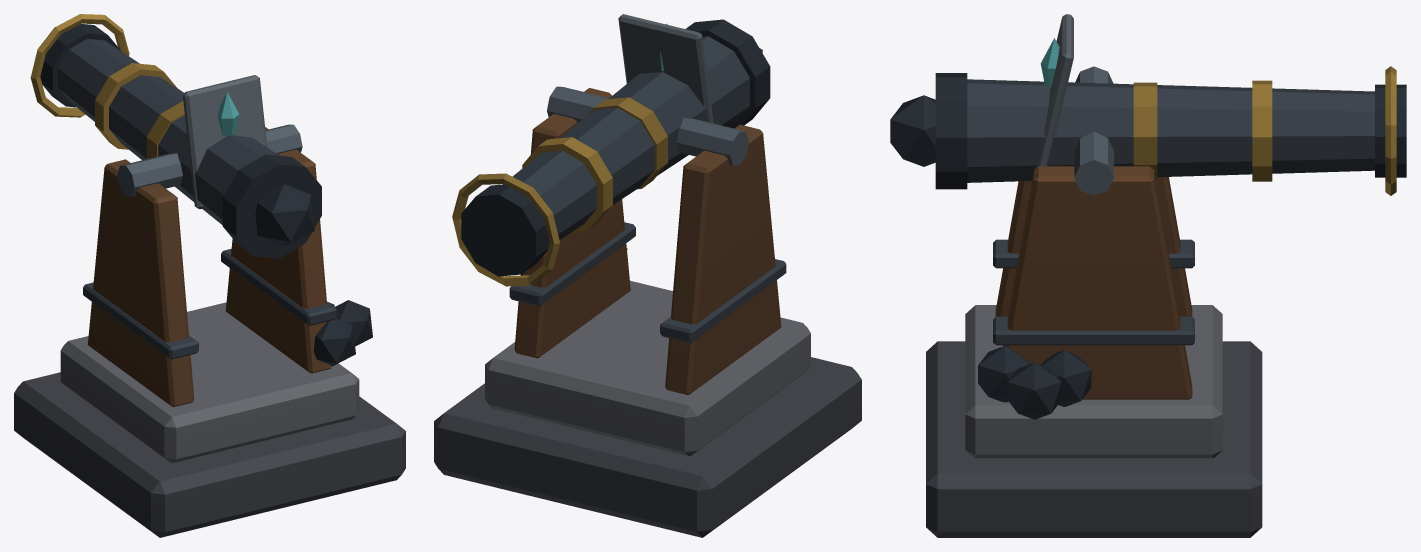
File: def_sentrycannon.glb
3 renders of one model, left to right at view 1: azimuth 30°, elevation 25°; view 2: azimuth 150°, elevation 25°; view 3: azimuth 270°, elevation 25°, orthographic. The views are drawn at different scales.
Parts seen in each view (by area): view 1: Base, Barrel, Up2Barrel, Up3Barrel; view 2: Base, Barrel, Up2Barrel, Up3Barrel; view 3: Base, Barrel, Up2Barrel, Up3Barrel.
Part boxes in pixels (x1,y1,x2,y2): Base: (14, 124, 405, 537); Barrel: (40, 24, 321, 258); Up2Barrel: (95, 63, 267, 209); Up3Barrel: (30, 14, 239, 135); Base: (434, 86, 861, 537); Barrel: (461, 19, 770, 276); Up2Barrel: (522, 14, 713, 231); Up3Barrel: (452, 23, 667, 286); Base: (926, 66, 1262, 537); Barrel: (890, 73, 1406, 189); Up2Barrel: (1035, 14, 1272, 181); Up3Barrel: (1040, 38, 1396, 195).
Bounding box in the file's own units: 1.74 × 2.44 × 2.61.
